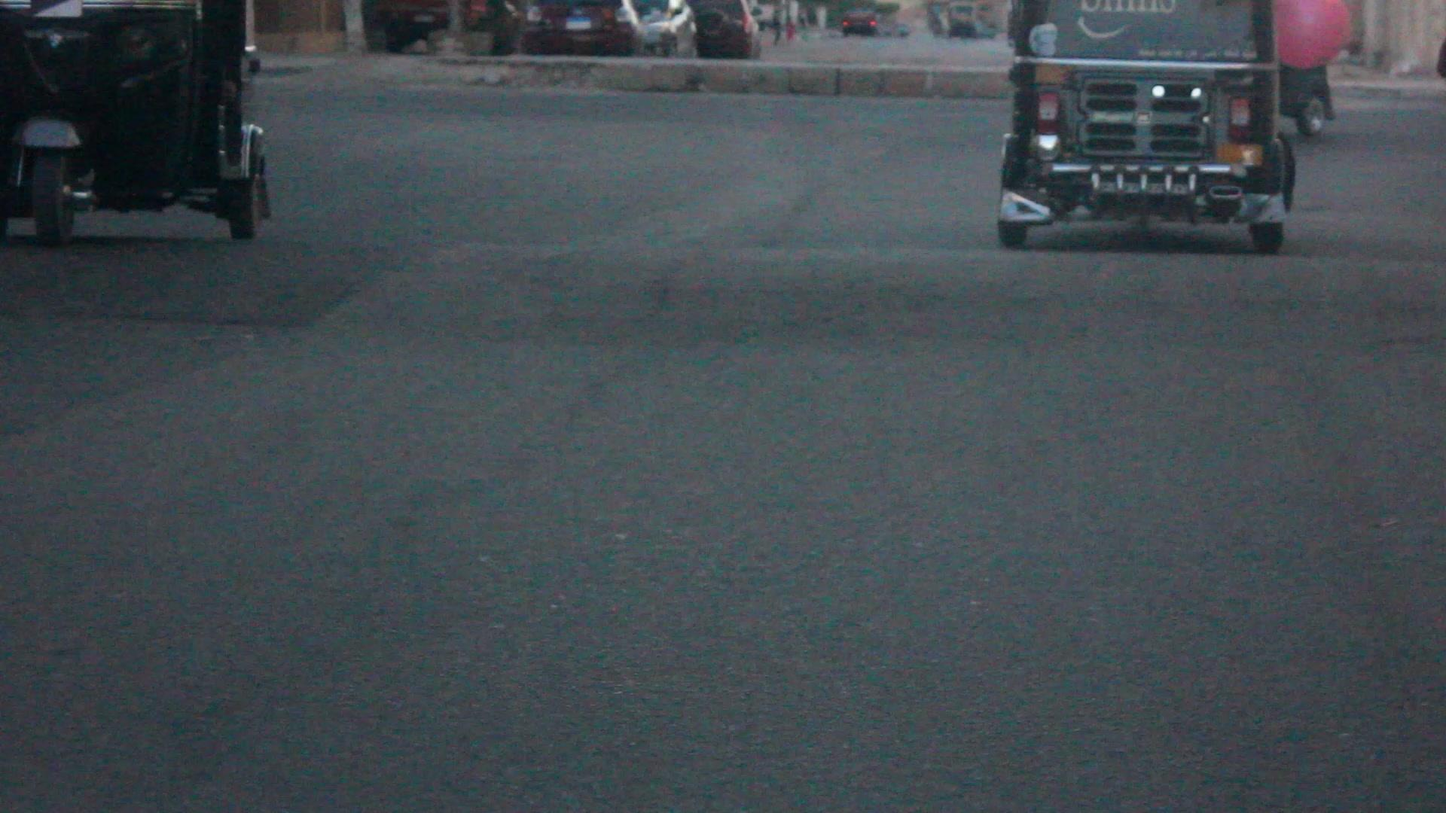Bump: (19, 241, 1446, 375)
